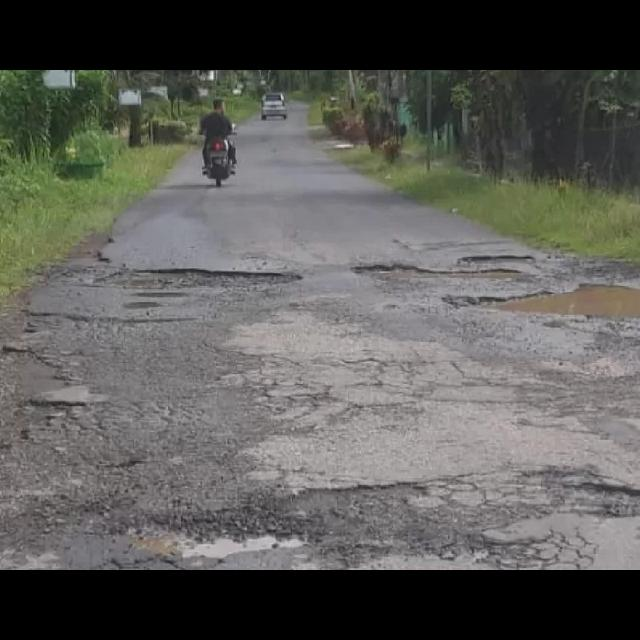lubang_kecil: (101, 488, 312, 570), (443, 268, 640, 326), (82, 254, 308, 298), (541, 450, 640, 517), (331, 258, 540, 288)
retak_kulit_buaya: (229, 344, 414, 418), (487, 521, 590, 570)
